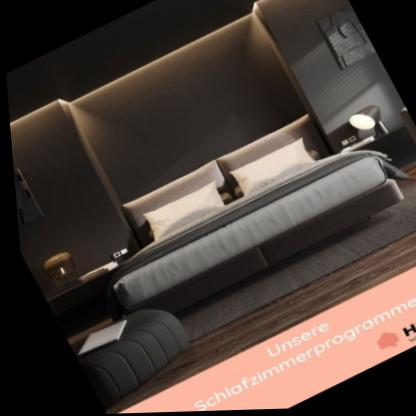Wooden floor: (106, 231, 416, 405)
